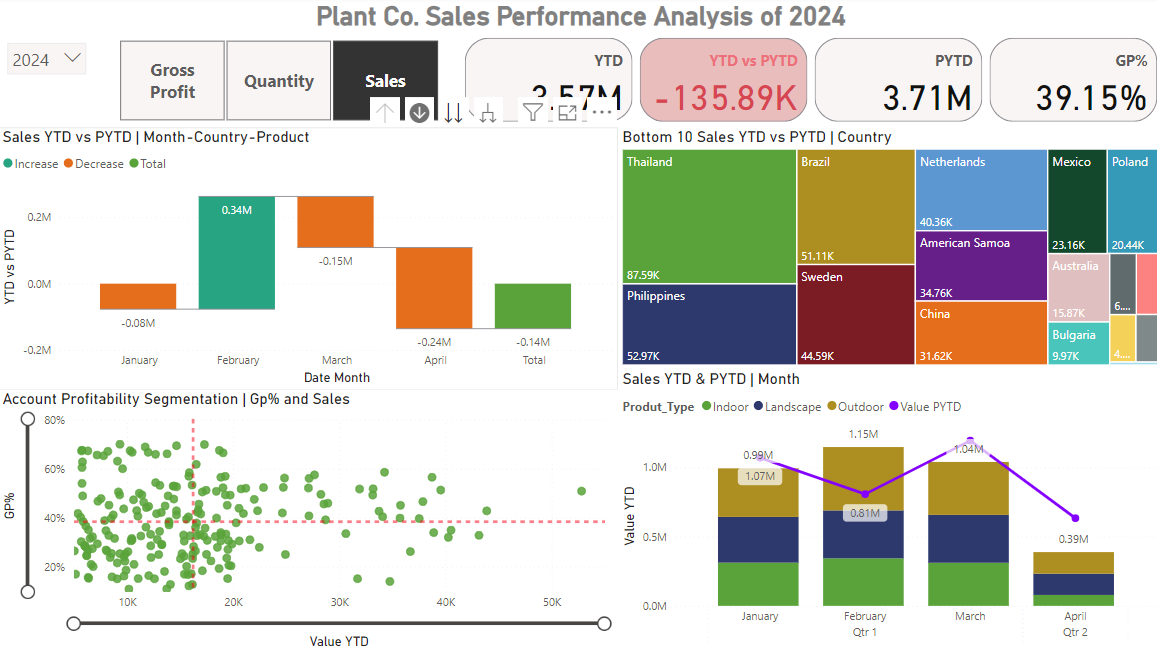

This screenshot's page, from the dashboard's own definition file:
{"tool":"powerbi","page":{"name":"Page 1","canvas":[1280,720],"ordinal":0},"visuals":[{"type":"cardVisual","fields":{"Data":["_Measures.S_YTD","_Measures.YTD vs PYTD","_Measures.S_PYTD","_Measures.GP%"]},"box":[507.7,41.2,772.6,102.9],"z":0},{"type":"slicer","fields":{"Values":["Slc_Values.Values"]},"box":[107,41.2,400.7,102.9],"z":1000},{"type":"slicer","fields":{"Values":["Dim_Date.Date.Variation.Date Hierarchy.Year"]},"box":[0,41.2,107,52.1],"z":2000},{"type":"treemap","fields":{"Values":["_Measures.YTD vs PYTD"],"Group":["Dim_Account.country"]},"box":[680.6,144.1,599.7,266.2],"z":3000},{"type":"waterfallChart","fields":{"Y":["_Measures.YTD vs PYTD"],"Category":["Dim_Date.Date.Variation.Date Hierarchy.Month","Dim_Account.country","Dim_Product.Produt_Type","Dim_Product.Product_Name"]},"box":[0,144.1,680.6,288.2],"z":4000},{"type":"lineStackedColumnComboChart","fields":{"Y":["_Measures.S_YTD"],"Y2":["_Measures.S_PYTD"],"Series":["Dim_Product.Produt_Type"],"Category":["Dim_Date.Date.Variation.Date Hierarchy.Quarter","Dim_Date.Date.Variation.Date Hierarchy.Month"]},"box":[680.6,410.3,599.7,310.1],"z":5000},{"type":"scatterChart","fields":{"Y":["_Measures.GP%"],"X":["_Measures.S_YTD"],"Category":["Dim_Account.Account"]},"box":[0,432.2,680.6,288.2],"z":6001},{"type":"card","fields":{"Values":["_Measures._Report title"]},"box":[0,0,1280.3,41.2],"z":6002}]}

Visuals, with their boxes in screenshot pixels (x1, y1, x2, y2), scaled from the page's 1280x720 canvas onto the 1157x647 screenshot:
cardVisual - _Measures.S_YTD x _Measures.YTD vs PYTD: region(459, 37, 1156, 129)
slicer - Slc_Values.Values: region(97, 37, 459, 129)
slicer - Dim_Date.Date.Variation.Date Hierarchy.Year: region(0, 37, 97, 84)
treemap - _Measures.YTD vs PYTD x Dim_Account.country: region(615, 129, 1156, 369)
waterfallChart - _Measures.YTD vs PYTD x Dim_Date.Date.Variation.Date Hierarchy.Month: region(0, 129, 615, 388)
lineStackedColumnComboChart - _Measures.S_YTD x _Measures.S_PYTD: region(615, 369, 1156, 646)
scatterChart - _Measures.GP% x _Measures.S_YTD: region(0, 388, 615, 646)
card - _Measures._Report title: region(0, 0, 1156, 37)
